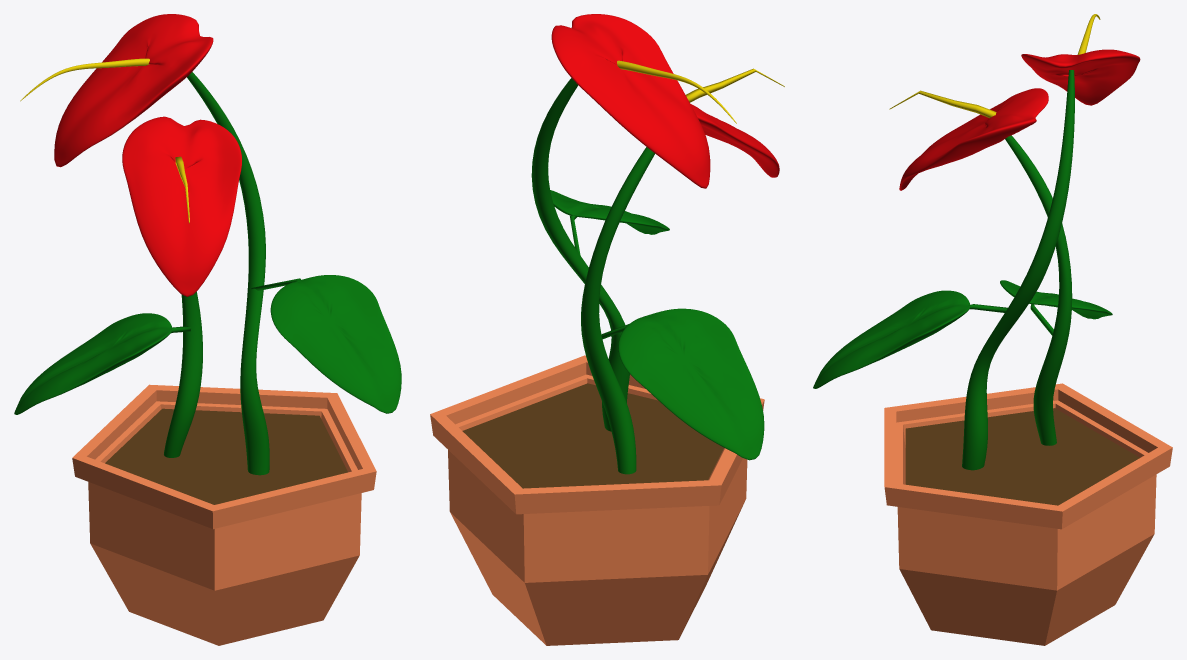
Rendered from Anturio.fbx.
3 renders of one model, left to right at view 1: azimuth 30°, elevation 25°; view 2: azimuth 150°, elevation 25°; view 3: azimuth 270°, elevation 25°, orthographic. The views are drawn at different scales.
Visible parts, largest first — view 1: Pot.001; view 2: Pot.001; view 3: Pot.001.
Boxes of the visible parts, x1,y1,x2,y2 form: Pot.001: (14,14,401,645); Pot.001: (430,14,784,645); Pot.001: (813,14,1172,645).
Bounding box in the file's own units: 83.44 × 143 × 84.63.
